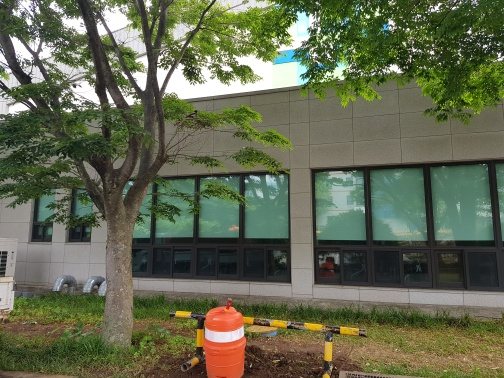Gym: (171, 49, 498, 313)
